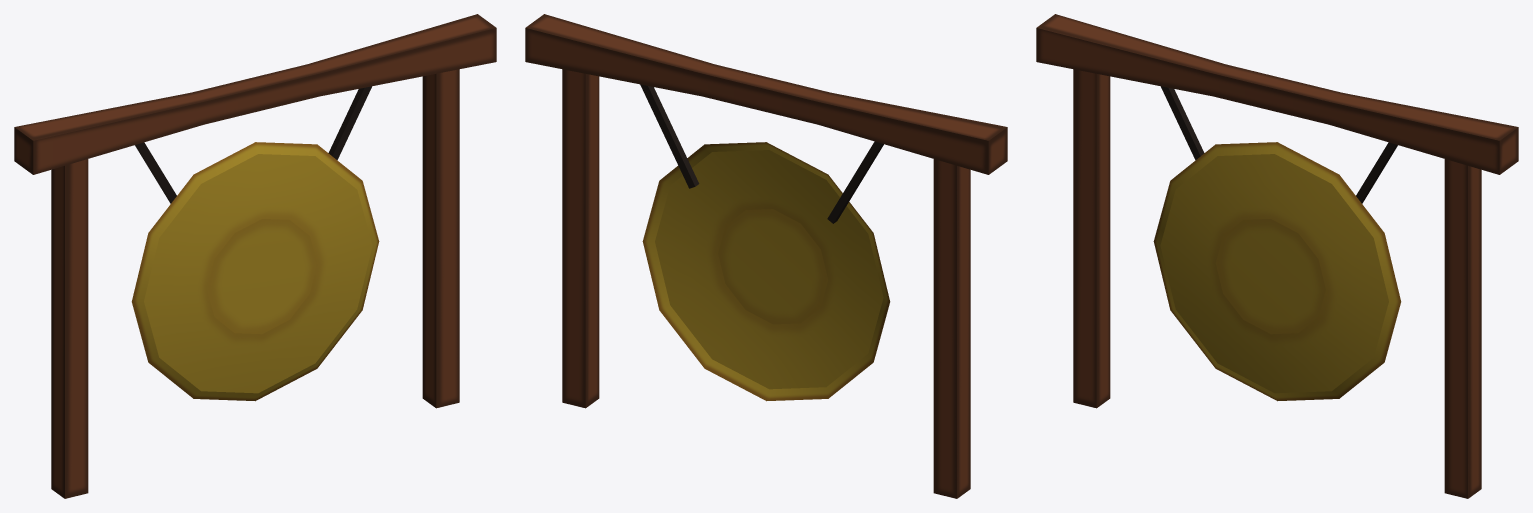
The model's file is gong.fbx.
3 views of the same model, side by side, from view 1: azimuth 30°, elevation 25°; view 2: azimuth 150°, elevation 25°; view 3: azimuth 330°, elevation 25° (orthographic).
Visible parts, largest first — view 1: metal, wood; view 2: metal, wood; view 3: metal, wood.
Boxes of the visible parts, <box> form: metal: <box>131,86,379,401</box>; wood: <box>14,14,496,498</box>; metal: <box>640,84,890,401</box>; wood: <box>525,14,1007,498</box>; metal: <box>1153,86,1401,401</box>; wood: <box>1036,14,1518,498</box>.
Size of the model in its own units: 3.74 by 2.84 by 0.2643.
